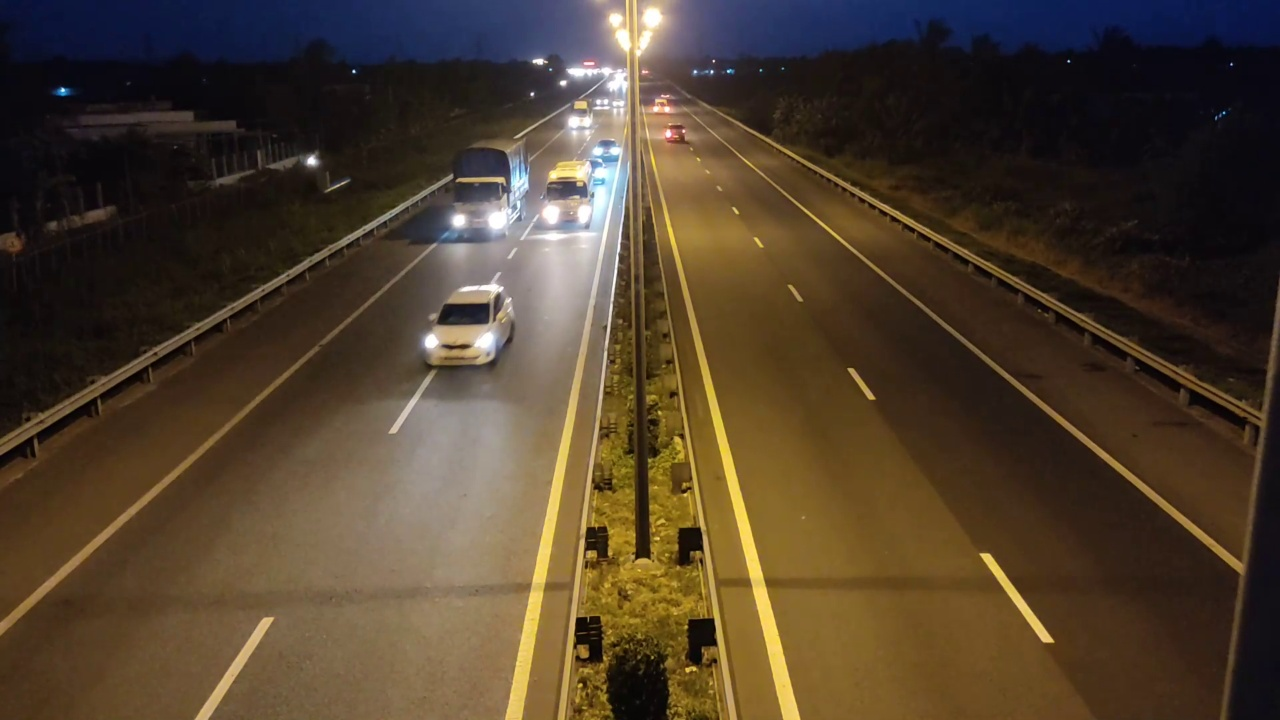bus: (536, 158, 600, 233)
car: (421, 277, 517, 369), (663, 123, 689, 143)
truck: (447, 134, 531, 240)
